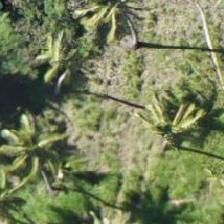coconut_tree: (140, 66, 223, 156)
